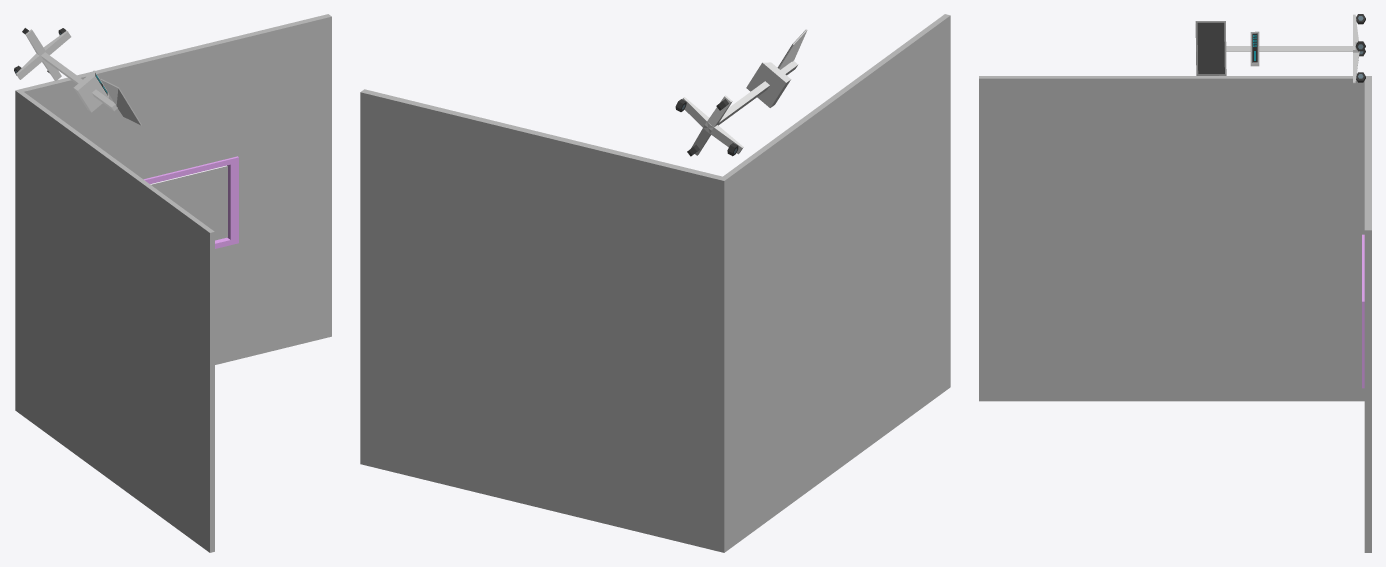
File: jump.glb
The picture shows the model from 3 angles, left to right: view 1: azimuth 30°, elevation 25°; view 2: azimuth 150°, elevation 25°; view 3: azimuth 270°, elevation 25°; orthographic projection. The views are drawn at different scales.
Parts seen in each view (by area): view 1: 物件_4, 物件_5, 物件_3, 图层_01, 物件_1; view 2: 物件_5, 物件_4, 图层_01; view 3: 物件_4, 物件_5, 图层_01.
Boxes of the visible parts, x1,y1,x2,y2 form: 物件_4: [15, 89, 214, 552]; 物件_5: [15, 14, 331, 410]; 物件_3: [151, 166, 227, 240]; 图层_01: [14, 28, 141, 125]; 物件_1: [143, 156, 238, 248]; 物件_5: [360, 89, 728, 551]; 物件_4: [718, 14, 950, 552]; 图层_01: [675, 29, 807, 156]; 物件_4: [979, 76, 1371, 401]; 物件_5: [1364, 76, 1371, 552]; 图层_01: [1195, 14, 1365, 83].
Bounding box in the file's own units: 26.62 × 30.54 × 28.
6 materials, 1 textured.
